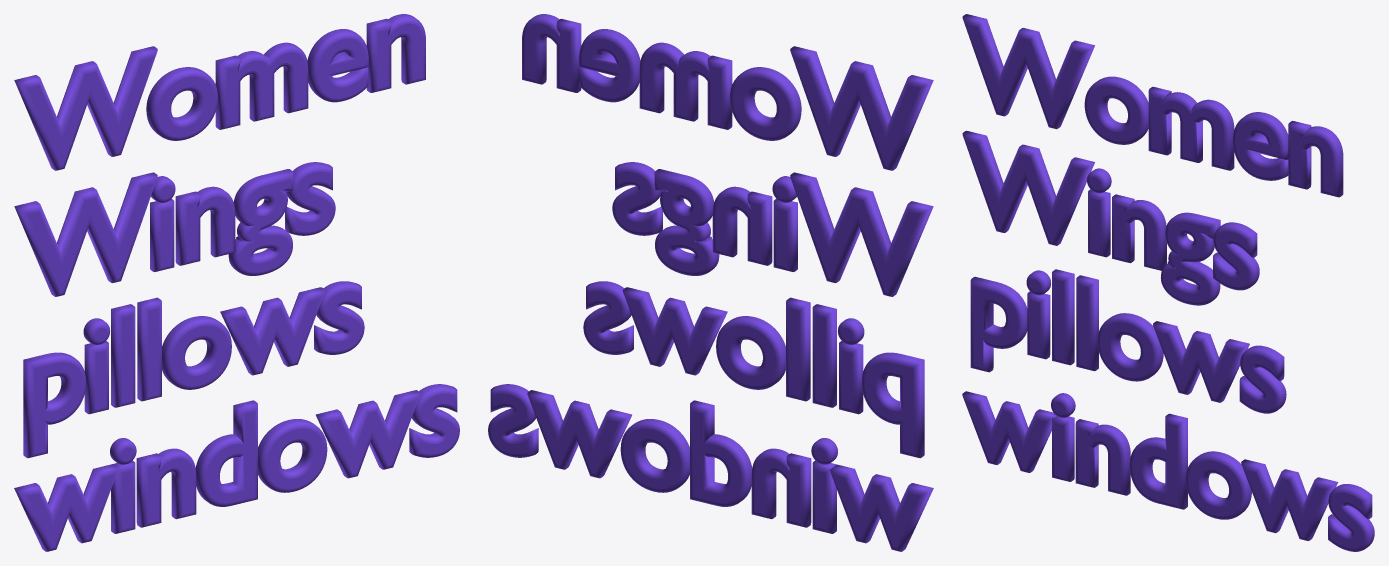
The model's file is caclulator1.fbx.
The picture shows the model from 3 angles, left to right: view 1: azimuth 30°, elevation 25°; view 2: azimuth 150°, elevation 25°; view 3: azimuth 330°, elevation 25°; orthographic projection. The views are drawn at different scales.
Parts seen in each view (by area): view 1: 텍스트; view 2: 텍스트; view 3: 텍스트.
Part boxes in pixels (x1=…): 텍스트: x1=14, y1=14, x2=459, y2=551; 텍스트: x1=488, y1=14, x2=933, y2=551; 텍스트: x1=962, y1=14, x2=1374, y2=551.
Size of the model in its own units: 367 by 377 by 12.
